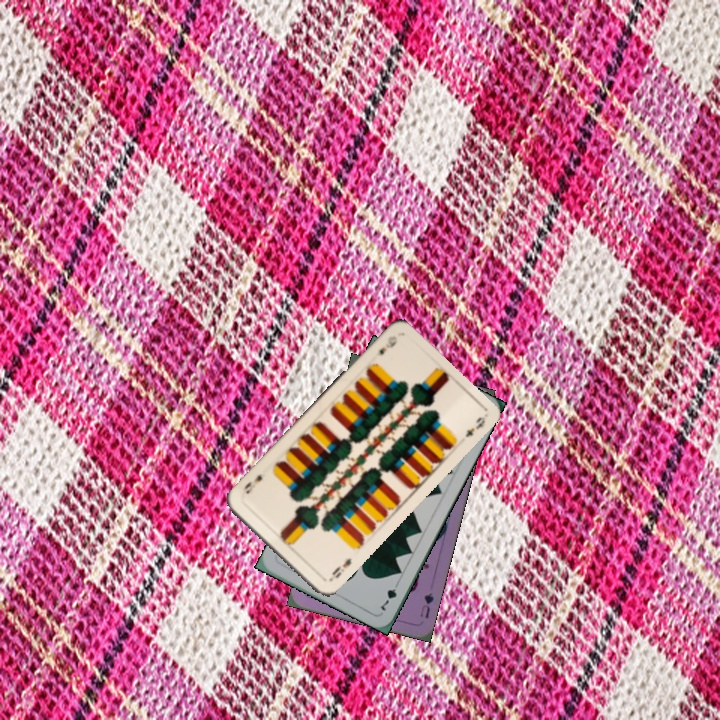E9: (328, 554, 354, 581), (375, 331, 400, 358)
G7: (376, 577, 402, 613)
GU: (416, 587, 436, 621)
